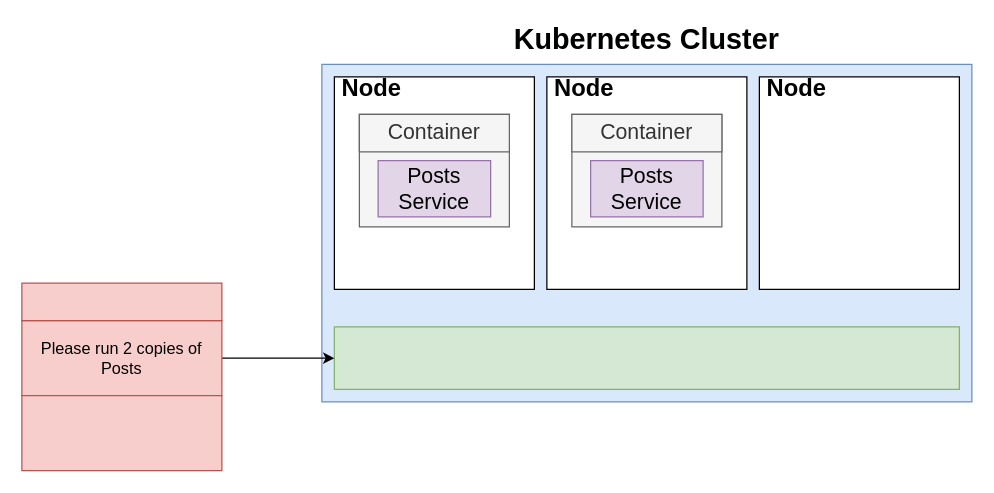
The diagram is 994 pixels wide and 493 high, and some of its shapes have lost their labels. The centre of each missing label's shape, as x and y in pixels:
Config File: pixel 121 301
Master: pixel 646 357
Please allow copies of Posts to be accessible from network: pixel 121 432
